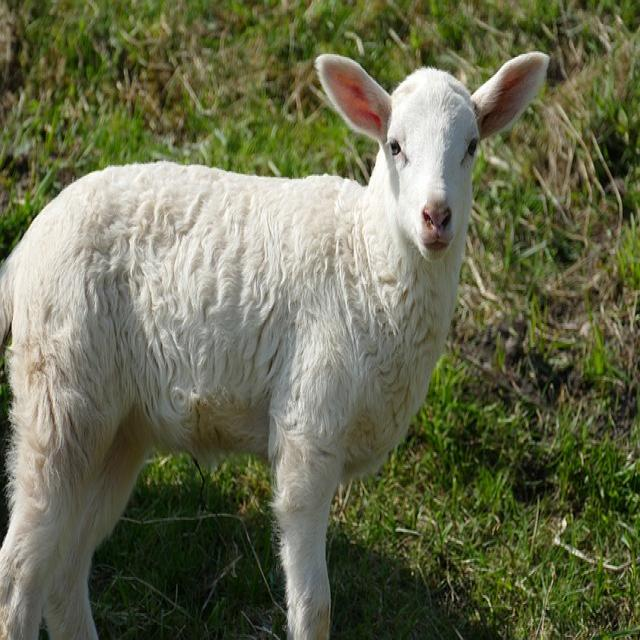sheep: (0, 48, 549, 639)
